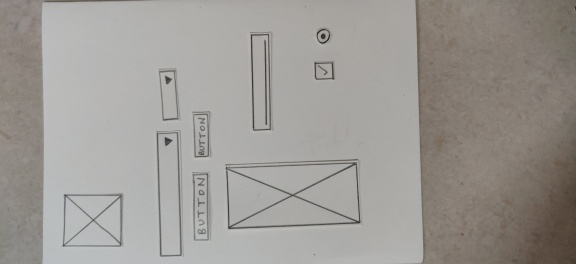button: (189, 169, 213, 244), (190, 108, 214, 161)
checkbox: (311, 59, 338, 85)
dropdown: (152, 127, 186, 259), (156, 65, 183, 124)
img: (222, 157, 364, 231), (59, 189, 128, 250)
radio: (313, 26, 334, 47)
text: (247, 29, 275, 134)
